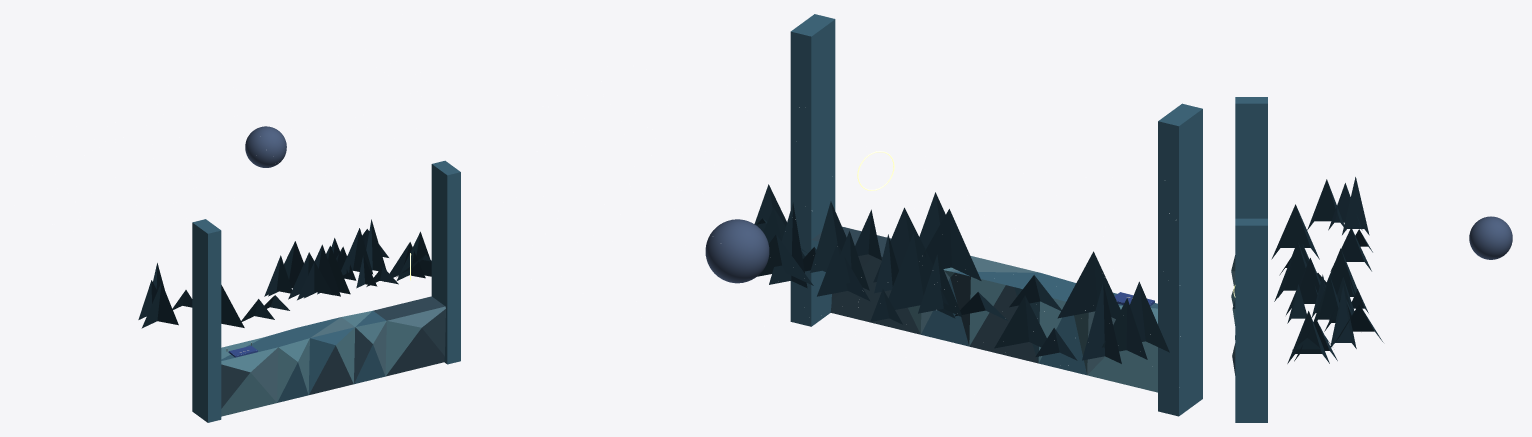
Rendered from 04-rings.glb.
The picture shows the model from 3 angles, left to right: view 1: azimuth 30°, elevation 25°; view 2: azimuth 150°, elevation 25°; view 3: azimuth 270°, elevation 25°; orthographic projection. The views are drawn at different scales.
Visible parts, largest first — view 1: terrain_floor, terrain_wall_-1, terrain_wall_1, planet_horizon, background_spire_22, background_spire_04, background_spire_10, background_spire_05, background_spire_14, background_spire_07, background_spire_16, background_spire_17 (+3 smaller); view 2: terrain_floor, terrain_wall_-1, terrain_wall_1, planet_horizon, background_spire_16, background_spire_02, background_spire_10, background_spire_24, background_spire_20, background_spire_07, background_spire_05, background_spire_04 (+10 smaller); view 3: terrain_wall_1, terrain_wall_-1, planet_horizon, background_spire_02, background_spire_17, background_spire_22, background_spire_04, background_spire_09, background_spire_24, background_spire_16, background_spire_14, background_spire_05 (+5 smaller).
Part boxes in pixels (x1=…): terrain_floor: x1=221, y1=296, x2=445, y2=416; terrain_wall_-1: x1=192, y1=219, x2=221, y2=422; terrain_wall_1: x1=431, y1=160, x2=460, y2=364; planet_horizon: x1=245, y1=126, x2=286, y2=167; background_spire_22: x1=297, y1=244, x2=340, y2=300; background_spire_04: x1=141, y1=282, x2=178, y2=328; background_spire_10: x1=288, y1=252, x2=333, y2=299; background_spire_05: x1=341, y1=228, x2=373, y2=275; background_spire_14: x1=396, y1=231, x2=431, y2=281; background_spire_07: x1=264, y1=255, x2=291, y2=296; background_spire_16: x1=268, y1=241, x2=303, y2=296; background_spire_17: x1=366, y1=219, x2=386, y2=271; terrain_floor: x1=812, y1=226, x2=1157, y2=392; terrain_wall_-1: x1=1158, y1=103, x2=1202, y2=416; terrain_wall_1: x1=790, y1=14, x2=835, y2=326; planet_horizon: x1=705, y1=219, x2=769, y2=283; background_spire_16: x1=888, y1=233, x2=955, y2=318; background_spire_02: x1=1057, y1=251, x2=1120, y2=318; background_spire_10: x1=924, y1=209, x2=981, y2=280; background_spire_24: x1=1082, y1=282, x2=1121, y2=363; background_spire_20: x1=994, y1=295, x2=1046, y2=348; background_spire_07: x1=918, y1=254, x2=962, y2=317; background_spire_05: x1=810, y1=201, x2=846, y2=272; background_spire_04: x1=1130, y1=281, x2=1169, y2=352; terrain_wall_1: x1=1235, y1=218, x2=1267, y2=422; terrain_wall_-1: x1=1235, y1=97, x2=1267, y2=218; planet_horizon: x1=1469, y1=216, x2=1512, y2=259; background_spire_02: x1=1271, y1=204, x2=1319, y2=259; background_spire_17: x1=1330, y1=286, x2=1356, y2=348; background_spire_22: x1=1274, y1=241, x2=1317, y2=301; background_spire_04: x1=1307, y1=179, x2=1346, y2=230; background_spire_09: x1=1286, y1=258, x2=1324, y2=314; background_spire_24: x1=1342, y1=177, x2=1369, y2=235; background_spire_16: x1=1325, y1=248, x2=1357, y2=296; background_spire_14: x1=1287, y1=311, x2=1329, y2=363; background_spire_05: x1=1313, y1=275, x2=1339, y2=322.
Size of what is drawn, in the model's own units: 89.97 by 49.79 by 52.68.
